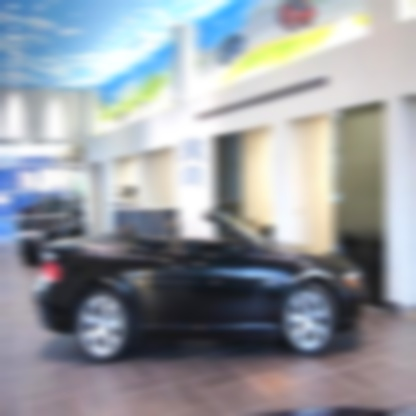Vehicle: (34, 207, 364, 367)
